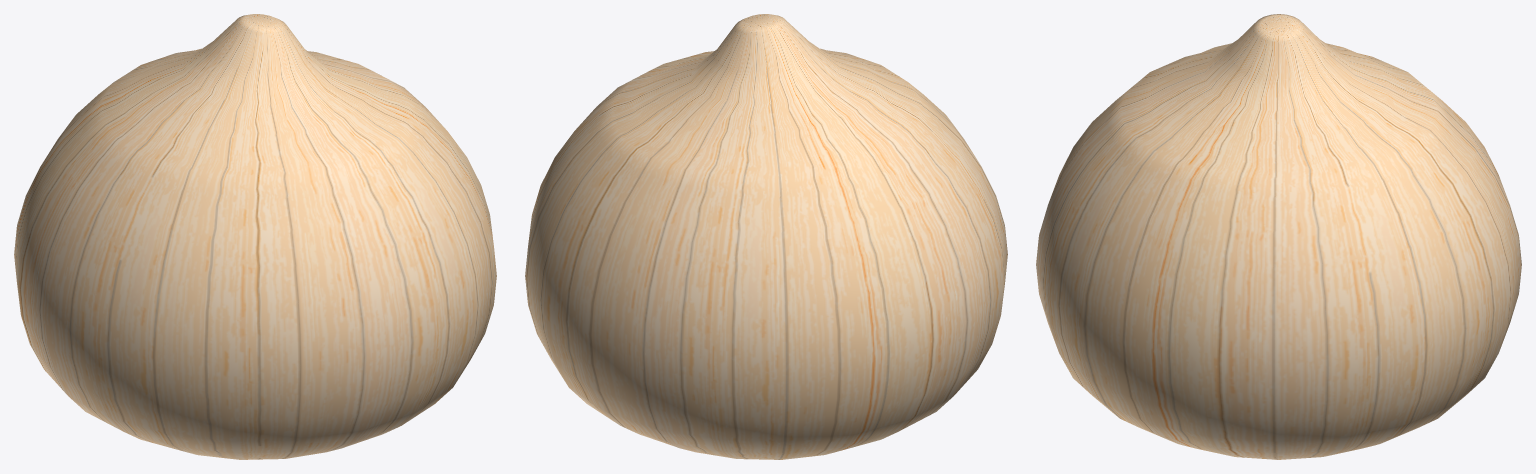
File: OnionFull.fbx
The picture shows the model from 3 angles, left to right: view 1: azimuth 30°, elevation 25°; view 2: azimuth 150°, elevation 25°; view 3: azimuth 270°, elevation 25°; orthographic projection.
Parts seen in each view (by area): view 1: pSphere1; view 2: pSphere1; view 3: pSphere1.
Boxes of the visible parts, x1,y1,x2,y2 form: pSphere1: (14, 14, 496, 459); pSphere1: (525, 14, 1007, 459); pSphere1: (1036, 14, 1521, 459).
Size of the model in its own units: 2 by 1.84 by 2.
